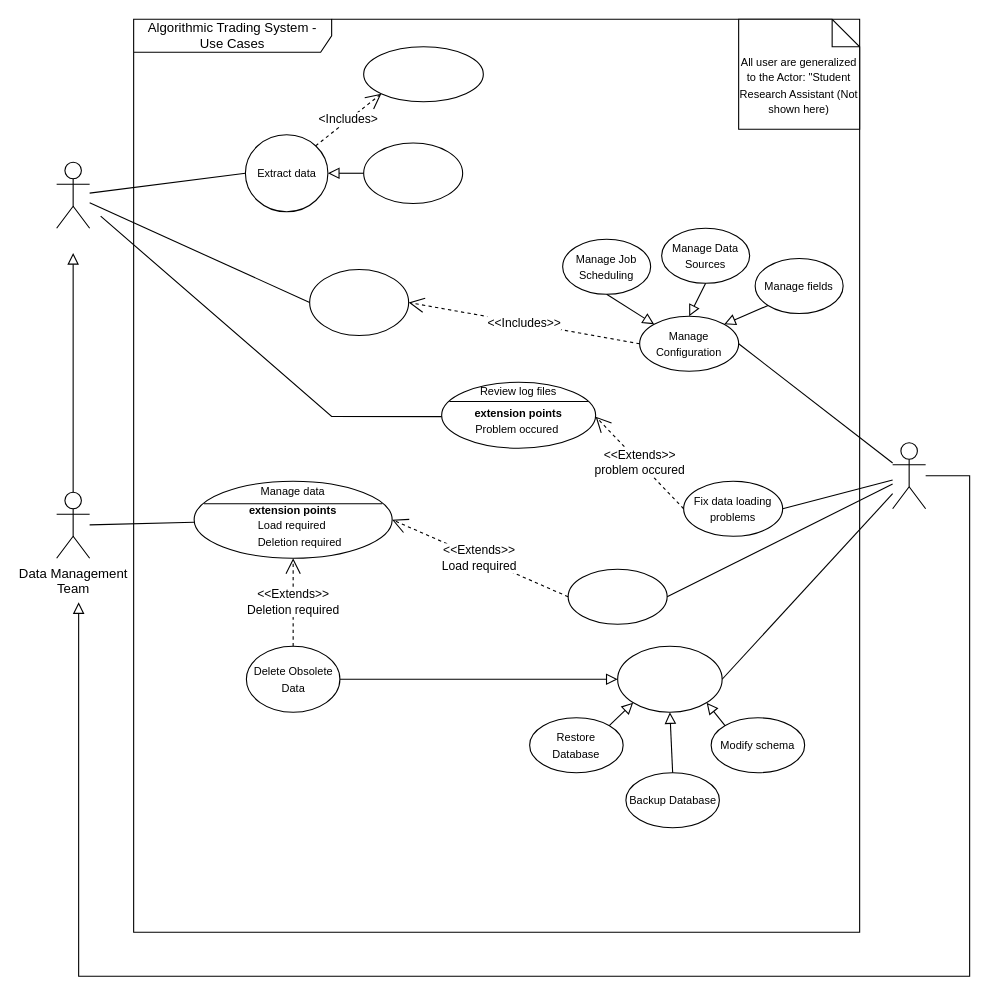
The diagram is 1000 pixels wide and 1007 high, and some of its shapes have lost their labels. The centre of each missing label's shape, as x and y in pixels:
Data Analyst: pixel 73 194
Download/Export Data: pixel 413 173
Manage Database: pixel 669 678
Manual Data Load: pixel 617 596
Request Configuration Change: pixel 359 302
Set up data retrieval parameters: pixel 423 74
System Administrator: pixel 909 475
